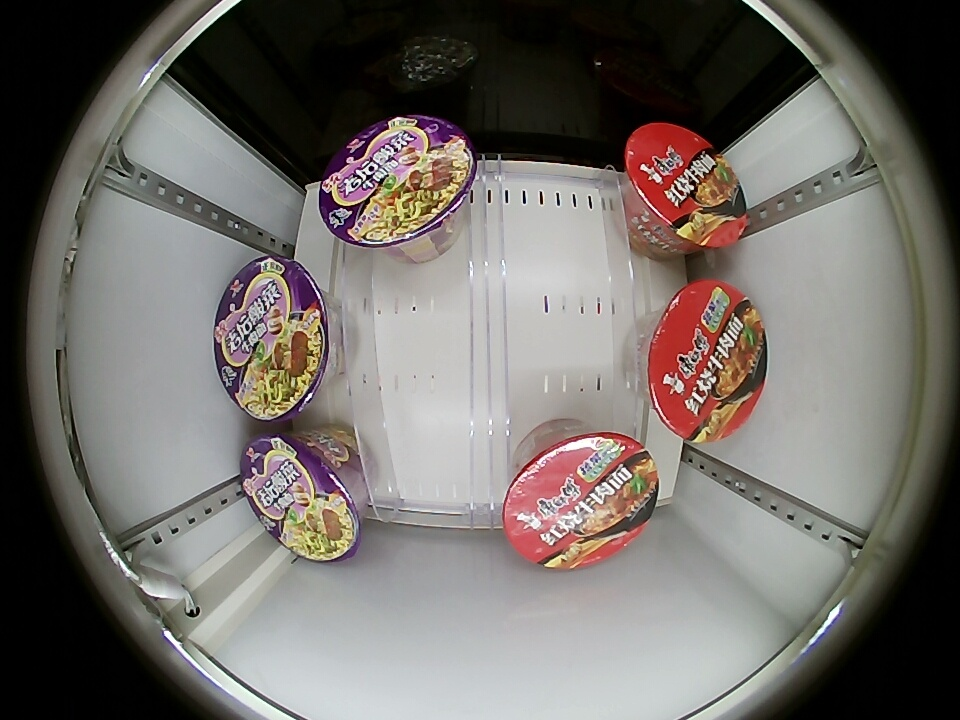hongshaoniurou: (503, 427, 660, 570), (643, 281, 767, 443), (623, 124, 747, 250)
laotansuancai: (317, 114, 479, 253), (213, 256, 338, 422), (241, 432, 363, 563)
